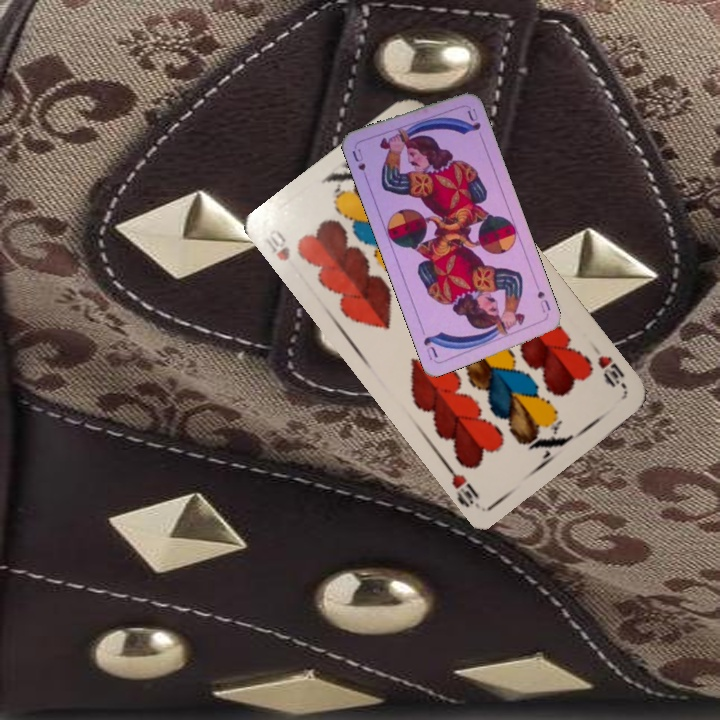H10: (588, 342, 630, 392), (261, 224, 293, 264)
SU: (348, 144, 371, 184), (533, 287, 553, 315)
